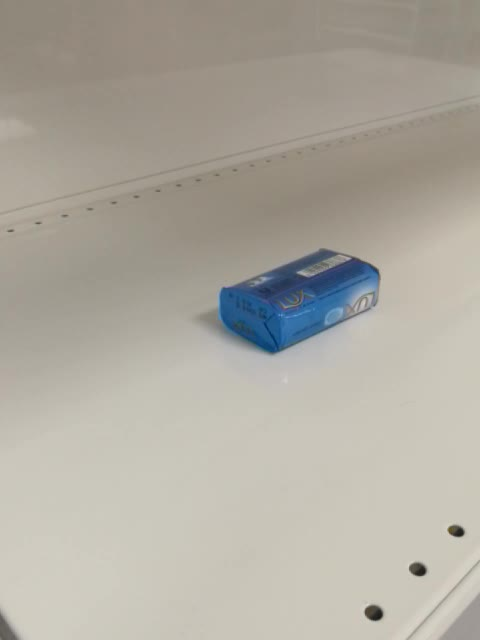soap: (219, 248, 381, 356)
